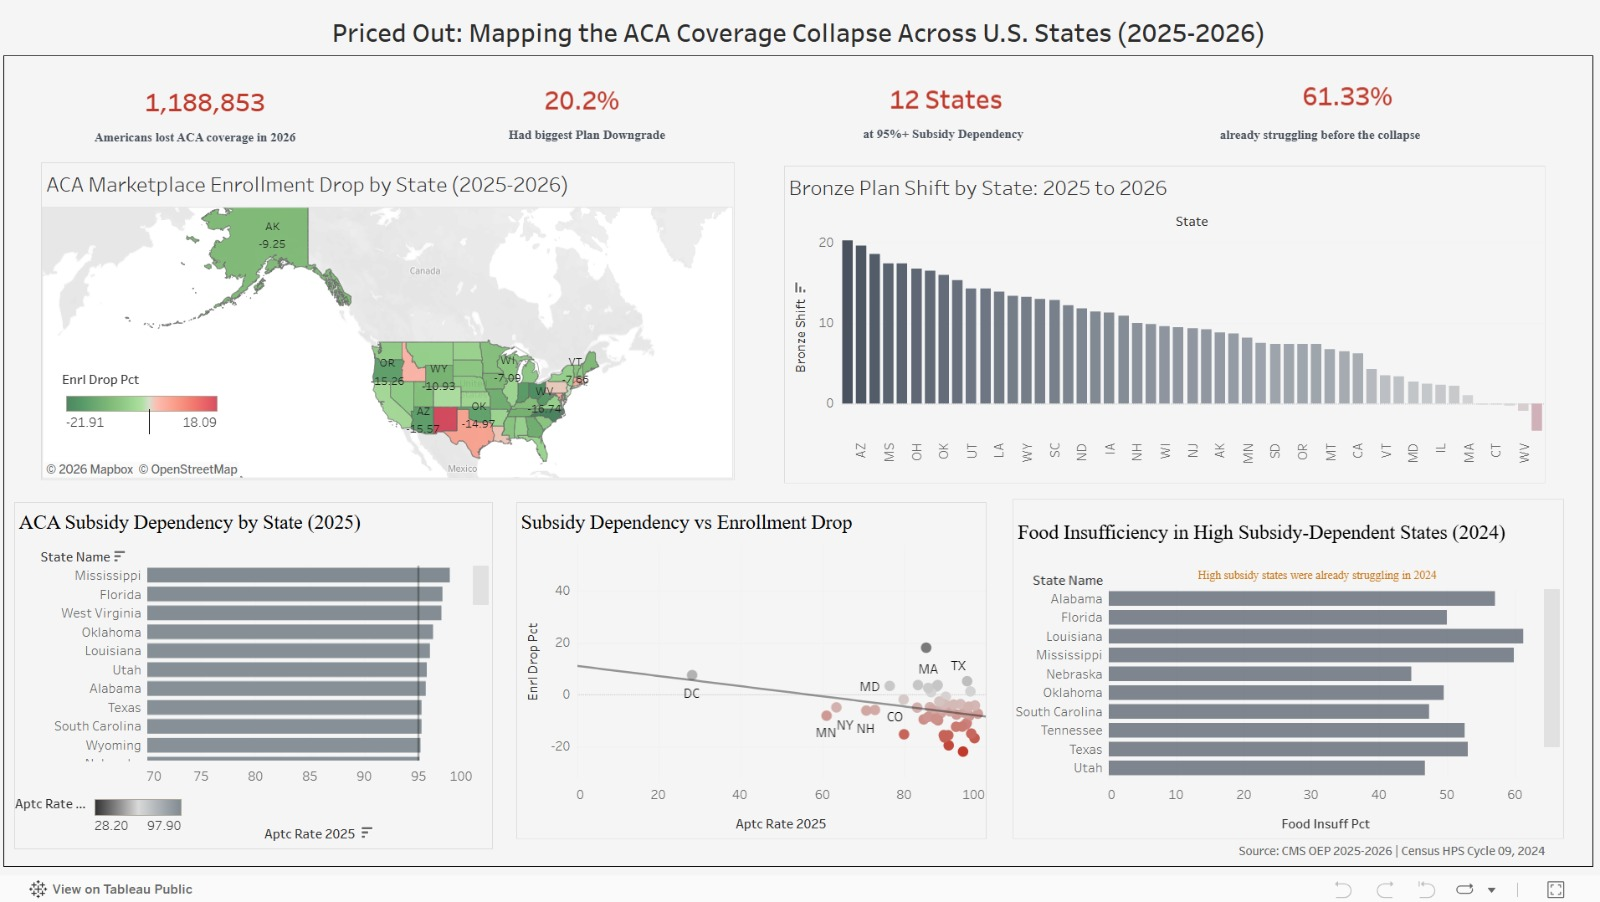

What the dashboard file says about the page in this screenshot:
{"tool":"tableau","page":{"name":"Dashboard 1","canvas":[1000,1000],"units":"permille","ordinal":0},"visuals":[{"type":"title","box":[4.9,9.4,990.1,52.9]},{"type":"worksheet","title":"KPI4","mark":"Automatic","box":[775.2,69.3,96.7,64.6]},{"type":"worksheet","title":"KPI3","mark":"Automatic","box":[551.7,72.9,113.3,63.5]},{"type":"worksheet","title":"KPI2","mark":"Automatic","box":[339.3,74,98.5,62.3]},{"type":"worksheet","title":"KPI1","mark":"Text","box":[79.4,76.4,105.9,81.1]},{"type":"text","box":[540.6,135.1,168.7,35.2]},{"type":"text","box":[737.7,135.1,179.2,35.2]},{"type":"text","box":[319.6,136.3,139.2,35.2]},{"type":"text","box":[61.6,138.7,181.7,35.2]},{"type":"worksheet","title":"Enrollment Drop Map","mark":"Multipolygon","box":[28.3,185.7,431.7,363.1]},{"type":"worksheet","title":"Broze shift","mark":"Bar","rows":["bronze_shift"],"cols":["state"],"box":[490.8,189.2,474.1,363.1]},{"type":"legend","title":"Enrollment Drop Map","param":"[federated.0bw7zyi1yktbm1142bmo009z04wa].[sum:enrl_drop_pct:qk]","box":[41.9,423,99.1,82.3]},{"type":"worksheet","title":" Financial Stress","mark":"Bar","rows":["state_name"],"cols":["food_insuff_pct"],"box":[633.6,569.9,343,387.8]},{"type":"worksheet","title":"APTC Dependency","mark":"Bar","rows":["state_name"],"cols":["aptc_rate_2025"],"box":[8.6,573.4,301.1,397.2]},{"type":"worksheet","title":"Scatter","mark":"Circle","rows":["enrl_drop_pct"],"cols":["aptc_rate_2025"],"box":[324.5,573.4,292.5,384.2]},{"type":"text","box":[748.8,638.1,223.5,35.2]},{"type":"legend","title":"APTC Dependency","param":"[federated.0bw7zyi1yktbm1142bmo009z04wa].[sum:aptc_rate_2025:qk]","box":[11.1,908.3,107.8,47]},{"type":"text","box":[774,958.9,215.5,24.7]}]}

Visuals, with their boxes on the dashboard's canvas, which has no fixed pixel size, in thousandths of its width and height (x1, y1, x2, y2). These are canvas units, not pixel positions in the 1600x902 screenshot, which may show the page scaled, cropped or inside an application window:
title: {"left": 5, "top": 9, "right": 995, "bottom": 62}
"KPI4" worksheet: {"left": 775, "top": 69, "right": 872, "bottom": 134}
"KPI3" worksheet: {"left": 552, "top": 73, "right": 665, "bottom": 136}
"KPI2" worksheet: {"left": 339, "top": 74, "right": 438, "bottom": 136}
"KPI1" worksheet (Text marks): {"left": 79, "top": 76, "right": 185, "bottom": 158}
text: {"left": 541, "top": 135, "right": 709, "bottom": 170}
text: {"left": 738, "top": 135, "right": 917, "bottom": 170}
text: {"left": 320, "top": 136, "right": 459, "bottom": 172}
text: {"left": 62, "top": 139, "right": 243, "bottom": 174}
"Enrollment Drop Map" worksheet (Multipolygon marks): {"left": 28, "top": 186, "right": 460, "bottom": 549}
"Broze shift" worksheet (Bar marks): {"left": 491, "top": 189, "right": 965, "bottom": 552}
"Enrollment Drop Map" legend: {"left": 42, "top": 423, "right": 141, "bottom": 505}
" Financial Stress" worksheet (Bar marks): {"left": 634, "top": 570, "right": 977, "bottom": 958}
"APTC Dependency" worksheet (Bar marks): {"left": 9, "top": 573, "right": 310, "bottom": 971}
"Scatter" worksheet (Circle marks): {"left": 324, "top": 573, "right": 617, "bottom": 958}
text: {"left": 749, "top": 638, "right": 972, "bottom": 673}
"APTC Dependency" legend: {"left": 11, "top": 908, "right": 119, "bottom": 955}
text: {"left": 774, "top": 959, "right": 990, "bottom": 984}
